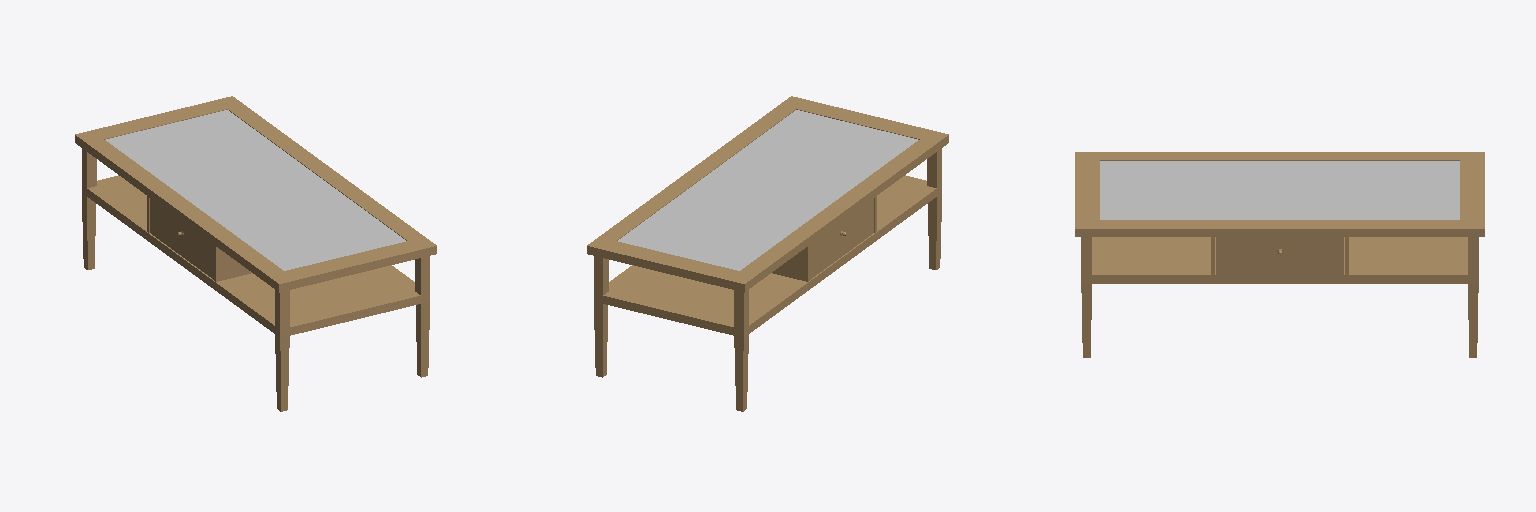
Rendered from tavolo_salotto.obj.
3 renders of one model, left to right at view 1: azimuth 30°, elevation 25°; view 2: azimuth 150°, elevation 25°; view 3: azimuth 270°, elevation 25°, orthographic.
Parts seen in each view (by area): view 1: table2_Cube.001, glass2_Cube; view 2: table2_Cube.001, glass2_Cube; view 3: table2_Cube.001, glass2_Cube.
Boxes of the visible parts, <box> form: table2_Cube.001: <box>75,96,436,411</box>; glass2_Cube: <box>106,110,405,270</box>; table2_Cube.001: <box>587,96,948,411</box>; glass2_Cube: <box>618,110,917,270</box>; table2_Cube.001: <box>1075,152,1484,357</box>; glass2_Cube: <box>1100,161,1459,219</box>.
Bounding box in the file's own units: 0.6416 × 0.5113 × 1.44.